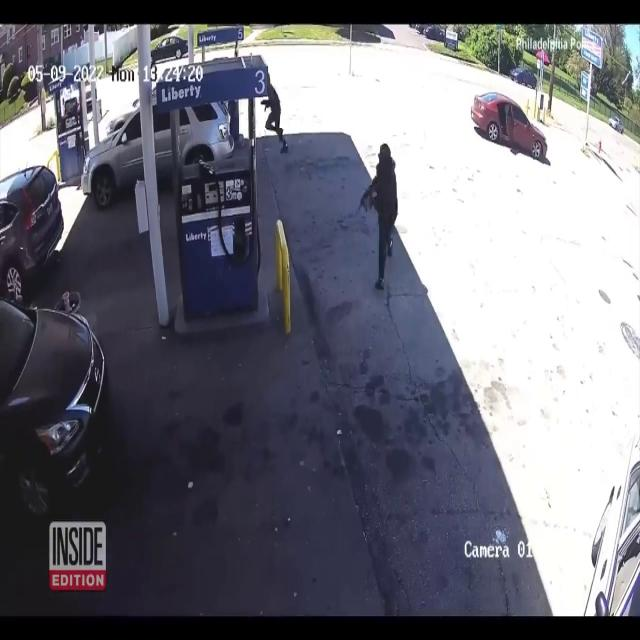penembakan: (356, 138, 402, 292), (257, 70, 293, 163)
